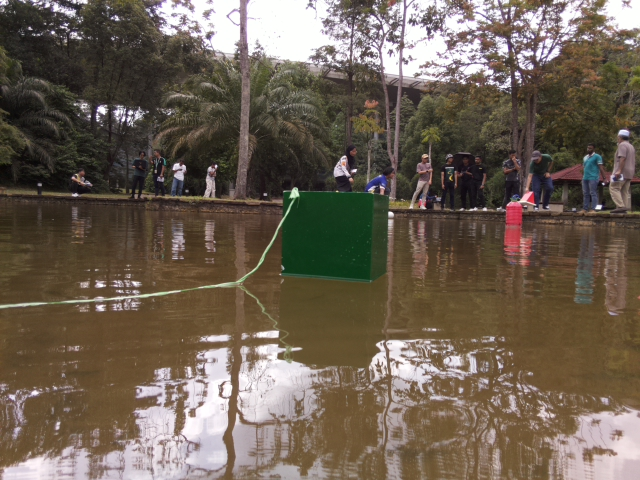obstacle: (281, 190, 388, 283)
